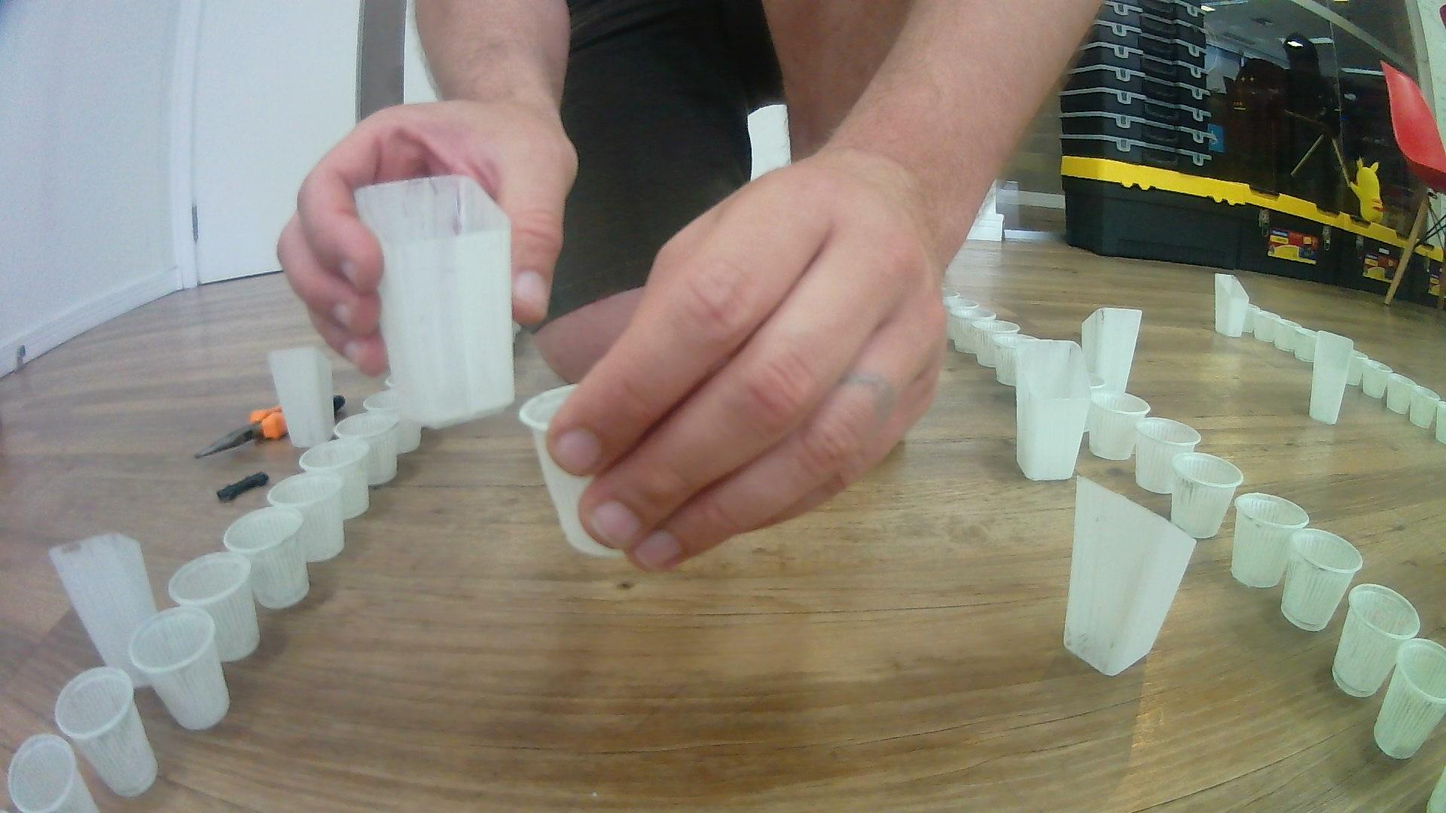erva_daninha: (354, 173, 515, 429), (1064, 475, 1200, 680), (48, 532, 160, 687), (1014, 336, 1091, 483), (266, 343, 336, 449), (1080, 306, 1144, 397), (1308, 329, 1356, 426), (1213, 273, 1252, 339)
planta: (519, 382, 628, 561), (54, 665, 160, 799), (127, 605, 230, 732), (167, 553, 261, 663), (1331, 584, 1421, 698), (222, 505, 312, 609), (1372, 638, 1446, 760), (1280, 527, 1364, 632), (1230, 491, 1311, 589), (7, 734, 101, 813), (267, 471, 346, 564), (1170, 452, 1245, 540), (297, 436, 373, 522), (1133, 416, 1203, 495), (332, 413, 399, 487), (1088, 391, 1152, 461), (362, 390, 423, 455), (993, 332, 1039, 387), (971, 318, 1022, 367), (953, 308, 998, 354), (1386, 372, 1424, 413), (944, 299, 979, 343), (1409, 385, 1442, 429), (1362, 360, 1396, 398), (1253, 311, 1286, 343), (1292, 329, 1322, 362), (1347, 350, 1374, 386), (1274, 321, 1302, 351), (1242, 304, 1268, 333), (1435, 399, 1446, 445)
